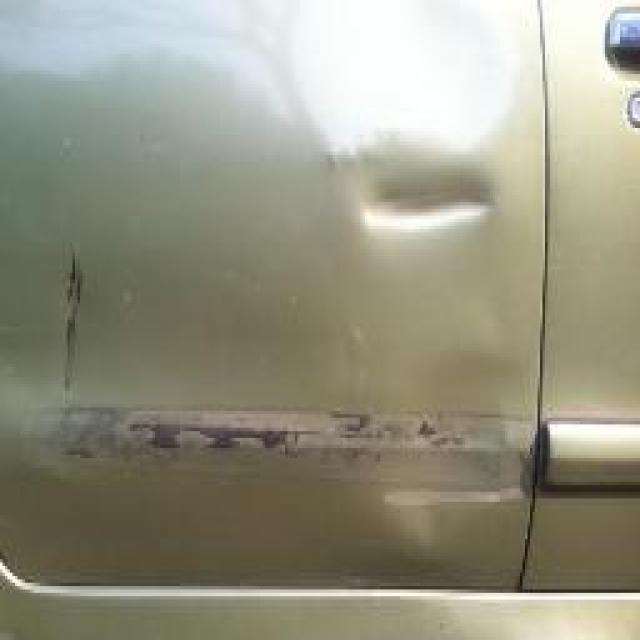Door: (7, 105, 543, 591)
